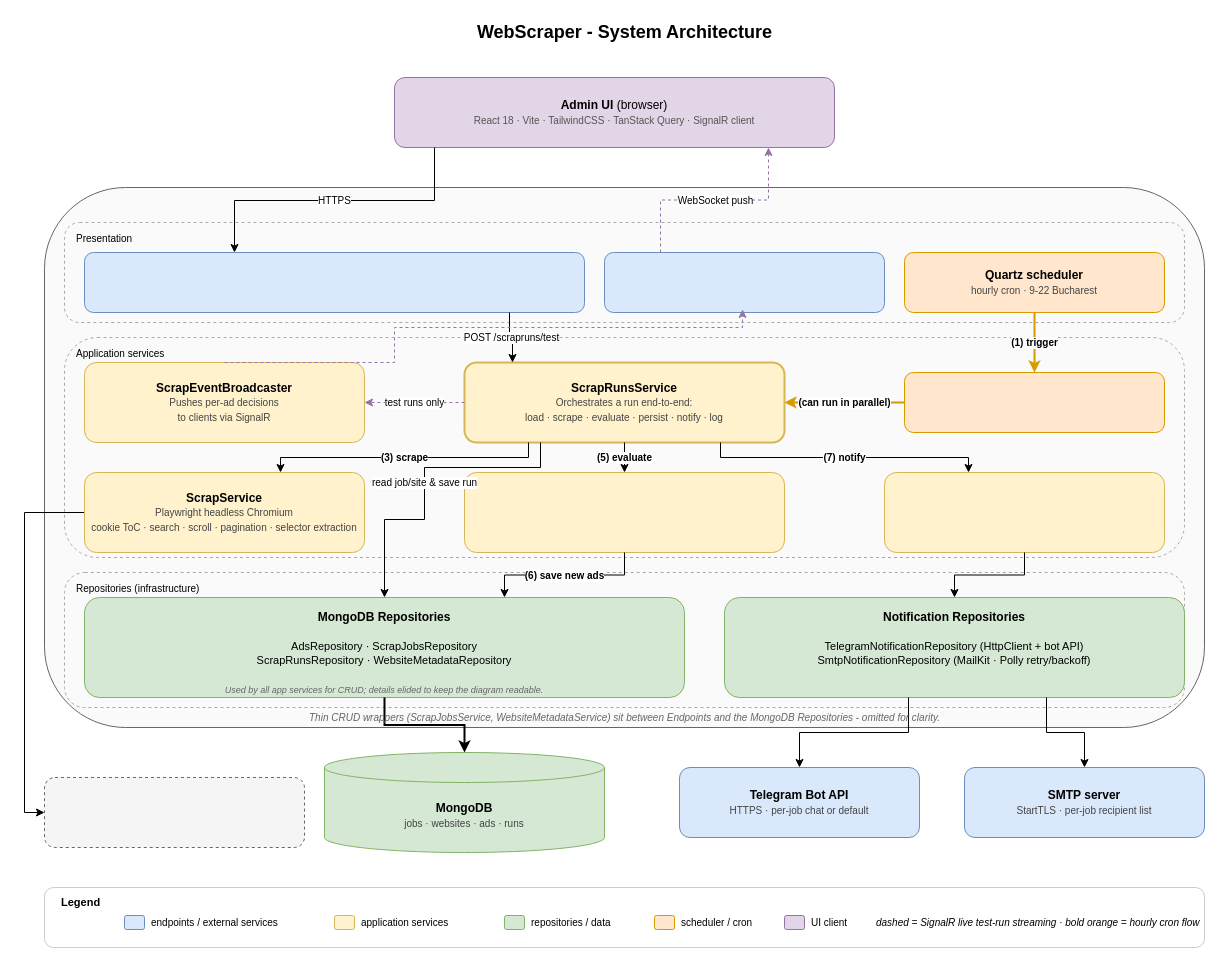
Image size: 1222x965. Some labels were removed from this diagram. Each missing label, with the centre of its shape:
AdsService Dedupe by URL-id must-contain / must-not / max-price filtering: pixel 624 512
HourlyScrape Quartz IJob · ≤3 runs in parallel: pixel 1034 402
Minimal API Endpoints /scrapjobs · /websites · /listings · /scrapruns · /health: pixel 334 282
NotificationService Fan-out to all configured channels in parallel: pixel 1024 512
ScrapEventsHub (SignalR) /hubs/scrap-events: pixel 744 282
Target classified-ads sites OLX, Emag, Altex etc.: pixel 174 812
